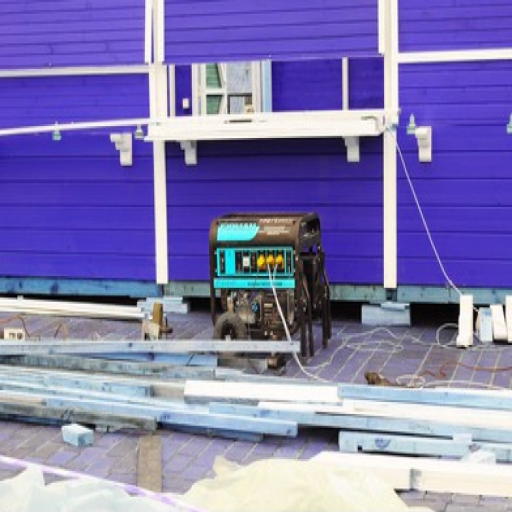portable_generator: (210, 210, 325, 338)
